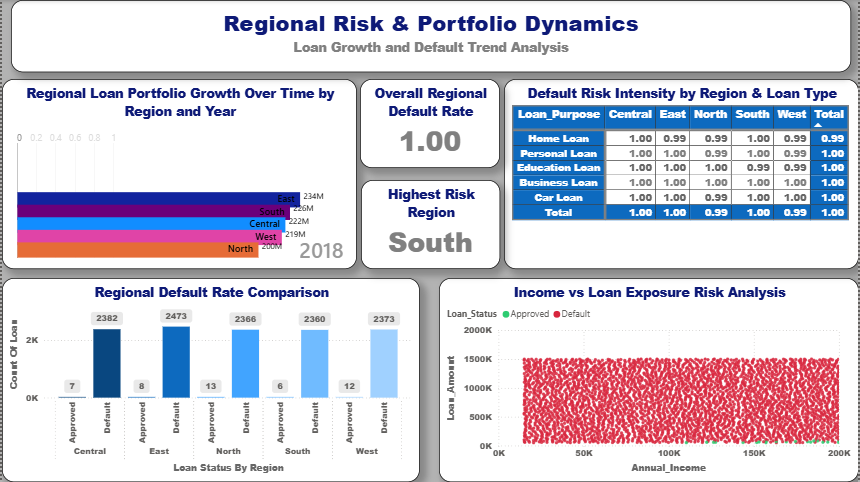

What the dashboard file says about the page in this screenshot:
{"tool":"powerbi","page":{"name":"Page 2","canvas":[1280,720],"ordinal":1},"visuals":[{"type":"wishyoulizationbarchartrace","fields":{"name":["banking_project credit_risk_data.Region"],"value":["Sum(banking_project credit_risk_data.Loan_Amount)"],"year":["banking_project credit_risk_data.Application_Date.Variation.Date Hierarchy.Year"]},"box":[0,118,530.3,283.8],"z":0},{"type":"columnChart","title":"Regional Default Rate Comparison","fields":{"Category":["banking_project credit_risk_data.Region","banking_project credit_risk_data.Loan_Status"],"Y":["CountNonNull(banking_project credit_risk_data.Loan_ID)"]},"box":[0,415.3,624.4,304.7],"z":1000},{"type":"scatterChart","title":"Income vs Loan Exposure Risk Analysis","fields":{"X":["banking_project credit_risk_data.Annual_Income"],"Y":["banking_project credit_risk_data.Loan_Amount"],"Series":["banking_project credit_risk_data.Loan_Status"],"Size":["CountNonNull(banking_project credit_risk_data.Credit_Score (bins))"]},"box":[652.8,415.3,627.4,304.7],"z":2000},{"type":"pivotTable","title":"Default Risk Intensity by Region & Loan Type","fields":{"Values":["Avg(banking_project credit_risk_data.Default_Risk_Flag)"],"Rows":["banking_project credit_risk_data.Loan_Purpose"],"Columns":["banking_project credit_risk_data.Region"]},"box":[749.9,118,530.3,283.8],"z":3000},{"type":"textbox","box":[13.4,0,1254.8,107.6],"z":4000},{"type":"cardVisual","title":"Highest Risk Region","fields":{"Data":["banking_project credit_risk_data.Highest Default Region"]},"box":[536.3,268.9,207.6,132.9],"z":5000},{"type":"cardVisual","title":"Overall Regional Default Rate","fields":{"Data":["banking_project credit_risk_data.Regional Default Rate %"]},"box":[534.8,118,209.1,132.9],"z":6000}]}

Visuals, with their boxes in screenshot pixels (x1, y1, x2, y2), scaled from the page's 1280x720 canvas onto the 860x482 screenshot:
wishyoulizationbarchartrace - banking_project credit_risk_data.Region x Sum(banking_project credit_risk_data.Loan_Amount): (left=0, top=79, right=356, bottom=269)
"Regional Default Rate Comparison" columnChart: (left=0, top=278, right=420, bottom=481)
"Income vs Loan Exposure Risk Analysis" scatterChart: (left=439, top=278, right=859, bottom=481)
"Default Risk Intensity by Region & Loan Type" pivotTable: (left=504, top=79, right=859, bottom=269)
textbox: (left=9, top=0, right=852, bottom=72)
"Highest Risk Region" cardVisual: (left=360, top=180, right=500, bottom=269)
"Overall Regional Default Rate" cardVisual: (left=359, top=79, right=500, bottom=168)
